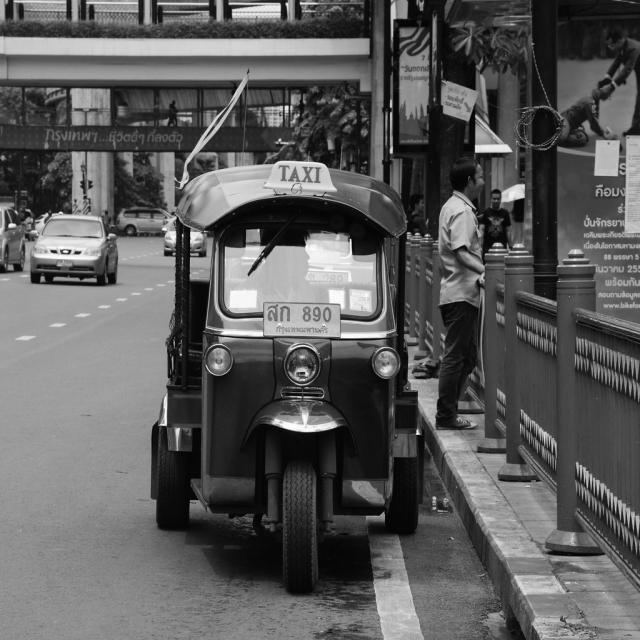plate: (263, 302, 342, 340)
